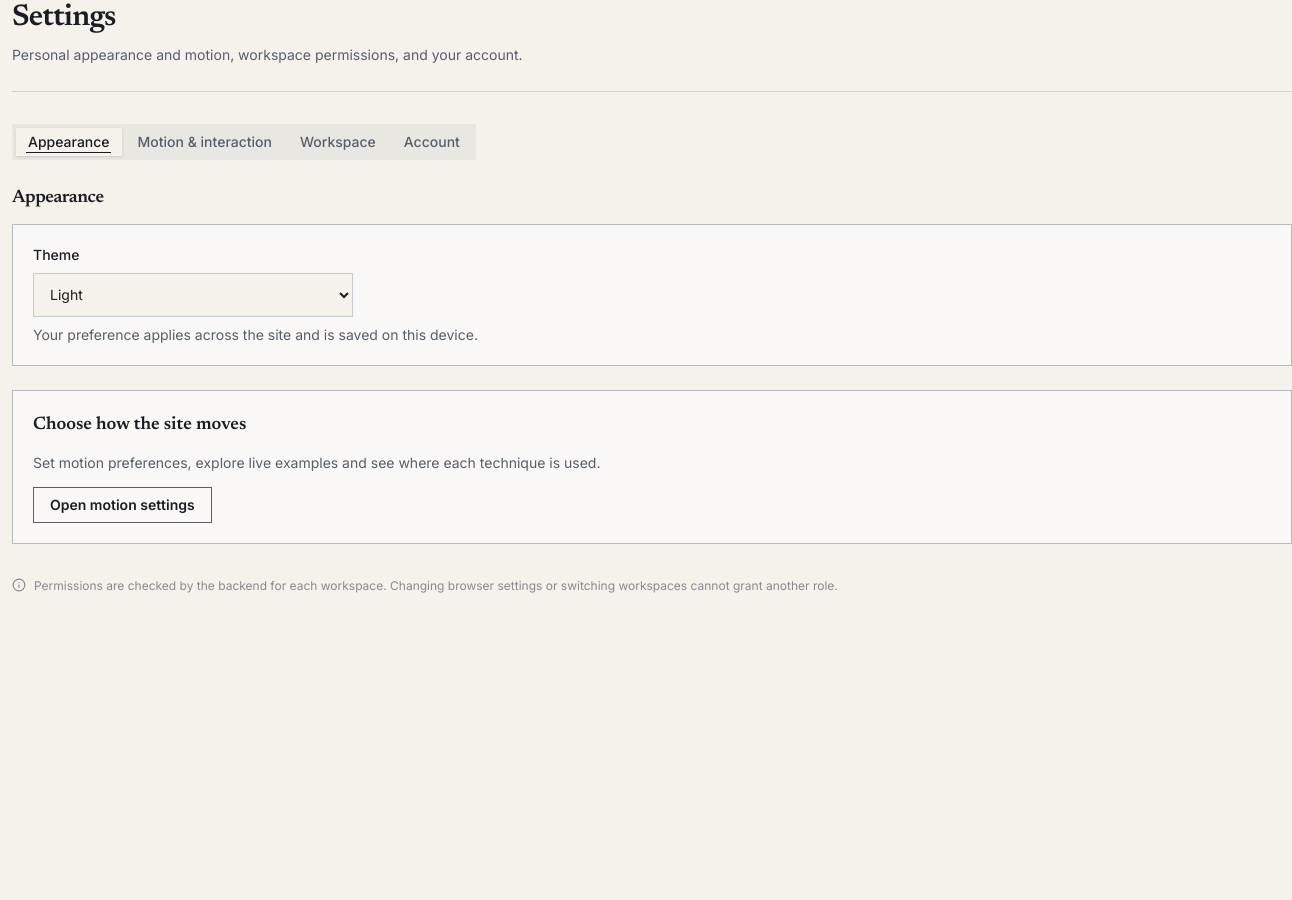
Test: organized personal motion settings › keeps motion in its own Settings tab and connects it to Appearance
Expected: the tab "Workspace" is shown, x1=288 y1=128 x2=388 y2=156
Click the button "Open motion settings".
click(122, 505)  # box x1=33 y1=487 x2=212 y2=523
(page scrolled)
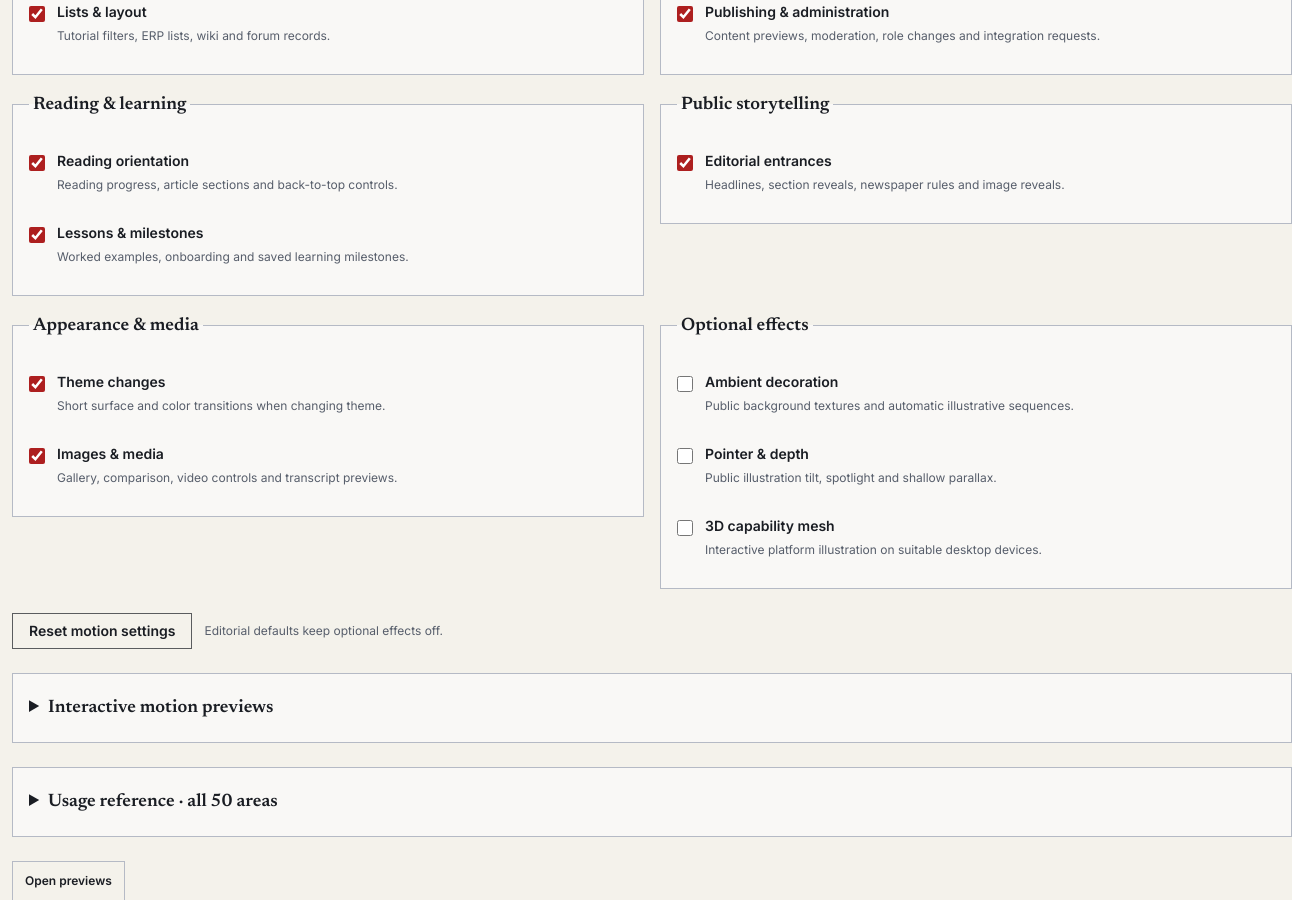
Expected: the element "Optional effects" is shown, x1=660 y1=312 x2=1291 y2=589
